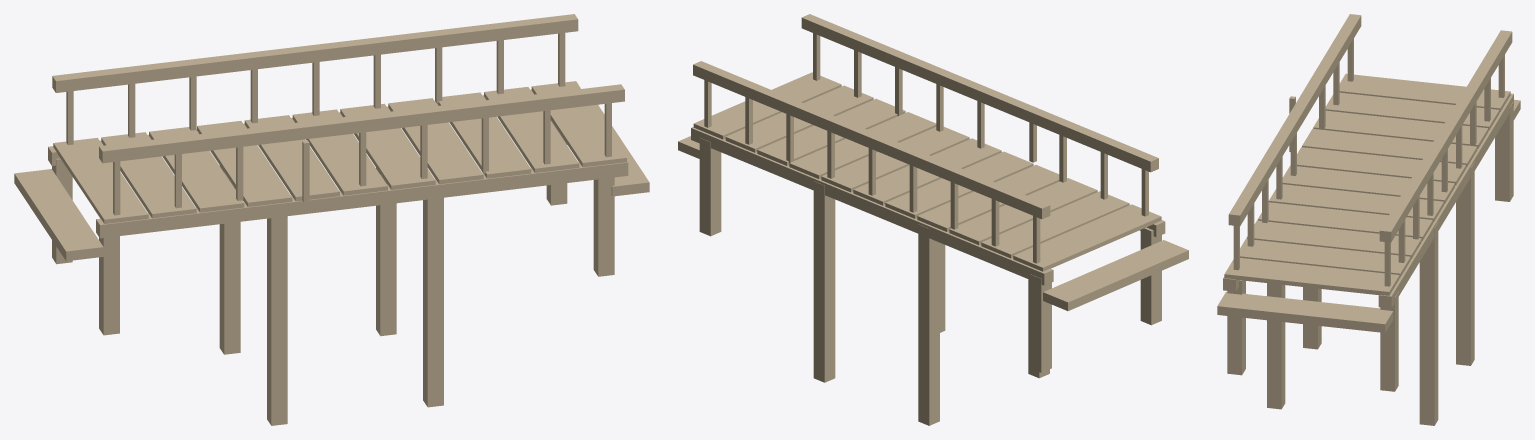
3 views of the same model, side by side, from view 1: azimuth 30°, elevation 25°; view 2: azimuth 150°, elevation 25°; view 3: azimuth 270°, elevation 25° (orthographic). The views are drawn at different scales.
Visible parts, largest first — view 1: Cube_017__1_; view 2: Cube_017__1_; view 3: Cube_017__1_.
Part boxes in pixels (box(x1,y1,x2,y2)): Cube_017__1_: box(14, 14, 649, 425); Cube_017__1_: box(678, 14, 1188, 425); Cube_017__1_: box(1217, 14, 1520, 425).
Bounding box in the file's own units: 1101 × 560 × 583.
